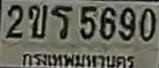0: (139, 7, 155, 40)
2: (5, 3, 22, 38)
5: (79, 5, 96, 39)
6: (99, 6, 115, 39)
9: (118, 6, 135, 40)
A02: (27, 3, 47, 38)
A35: (51, 4, 72, 38)
BKK: (21, 51, 137, 68)
